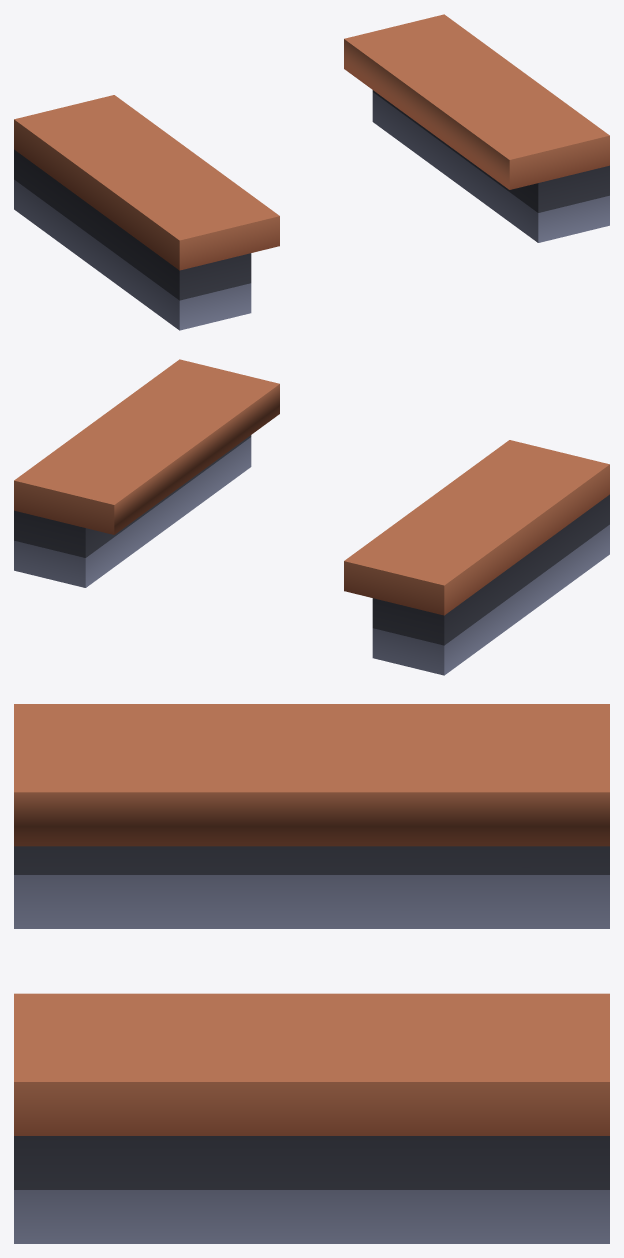
The model's file is station.glb.
3 views of the same model, one above another, from view 1: azimuth 30°, elevation 25°; view 2: azimuth 150°, elevation 25°; view 3: azimuth 270°, elevation 25° (orthographic). The views are drawn at different scales.
Visible parts, largest first — view 1: station; view 2: station; view 3: station.
Part boxes in pixels (bbox=[...]): station: bbox=[14, 14, 609, 330]; station: bbox=[14, 359, 609, 675]; station: bbox=[14, 704, 609, 1243].
Bounding box in the file's own units: 1.5 × 0.3 × 1.
